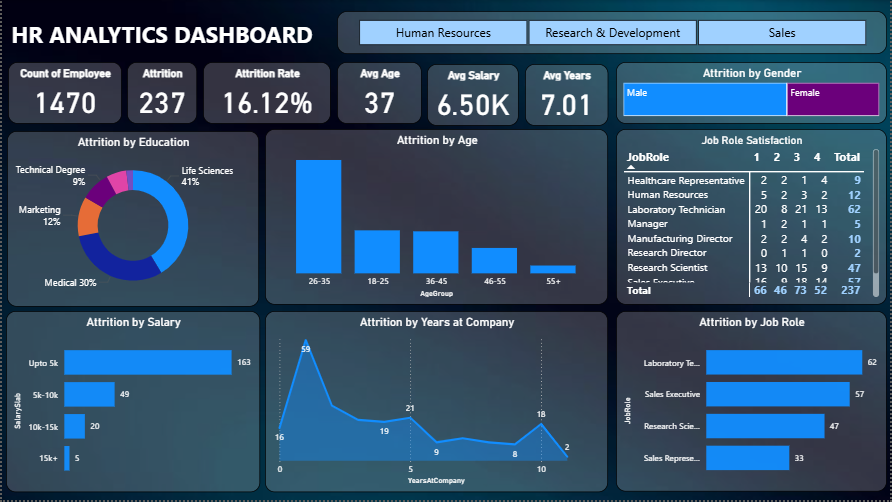

The page's visual inventory and layout, read from the dashboard file:
{"tool":"powerbi","page":{"name":"Page 1","canvas":[1280,720],"ordinal":0},"visuals":[{"type":"card","title":"Count of Employee","fields":{"Values":["CountNonNull(HR_Analytics.EmpID)"]},"box":[12.9,22.9,155.7,90],"z":0},{"type":"card","title":"Attrition","fields":{"Values":["Sum(HR_Analytics.AttritionCount)"]},"box":[180,22.9,107.1,90],"z":1000},{"type":"card","title":"Attrition Rate","fields":{"Values":["HR_Analytics.AttritionRate"]},"box":[298.6,22.9,164.3,90],"z":2000},{"type":"card","title":"Avg Age","fields":{"Values":["Avg(HR_Analytics.Age)"]},"box":[475.7,22.9,127.1,90],"z":3000},{"type":"card","title":"Avg Salary","fields":{"Values":["Avg(HR_Analytics.MonthlyIncome)"]},"box":[614.3,22.9,132.9,90],"z":4000},{"type":"card","title":"Avg Years","fields":{"Values":["Avg(HR_Analytics.YearsAtCompany)"]},"box":[760,22.9,120,90],"z":5000},{"type":"donutChart","title":"Attrition by Education","fields":{"Category":["HR_Analytics.EducationField"],"Y":["Sum(HR_Analytics.Education)"]},"box":[12.9,131.4,365.7,275.7],"z":6000},{"type":"columnChart","title":"Attrition by Age","fields":{"Category":["HR_Analytics.AgeGroup"],"Y":["Sum(HR_Analytics.AttritionCount)"]},"box":[388.8,131,292.3,275],"z":7000},{"type":"pivotTable","title":"Job Role Satisfaction","fields":{"Rows":["HR_Analytics.JobRole"],"Columns":["HR_Analytics.JobSatisfaction"],"Values":["Sum(HR_Analytics.AttritionCount)"]},"box":[891.4,22.9,371.4,357.1],"z":8000},{"type":"columnChart","title":"Attrition by Salary","fields":{"Category":["HR_Analytics.SalarySlab"],"Y":["Sum(HR_Analytics.AttritionCount)"]},"box":[13,413.3,365.8,288],"z":9000},{"type":"barChart","title":"Attrition by Job Role","fields":{"Category":["HR_Analytics.JobRole"],"Y":["Sum(HR_Analytics.AttritionCount)"]},"box":[891.4,388.8,371.5,312.5],"z":10000},{"type":"areaChart","title":"Attrition by Years at Company","fields":{"Category":["HR_Analytics.YearsAtCompany"],"Y":["Sum(HR_Analytics.AttritionCount)"]},"box":[385.9,413.3,493.9,288],"z":11000},{"type":"treemap","title":"Attrition by Gender","fields":{"Group":["HR_Analytics.Gender"],"Values":["Sum(HR_Analytics.AttritionCount)"]},"box":[691.2,131,188.6,275],"z":12000}]}

Visuals, with their boxes in screenshot pixels (x1, y1, x2, y2), scaled from the page's 1280x720 canvas onto the 892x502 screenshot:
"Count of Employee" card: 9 16 117 79
"Attrition" card: 125 16 200 79
"Attrition Rate" card: 208 16 323 79
"Avg Age" card: 332 16 420 79
"Avg Salary" card: 428 16 521 79
"Avg Years" card: 530 16 613 79
"Attrition by Education" donutChart: 9 92 264 284
"Attrition by Age" columnChart: 271 91 475 283
"Job Role Satisfaction" pivotTable: 621 16 880 265
"Attrition by Salary" columnChart: 9 288 264 489
"Attrition by Job Role" barChart: 621 271 880 489
"Attrition by Years at Company" areaChart: 269 288 613 489
"Attrition by Gender" treemap: 482 91 613 283
